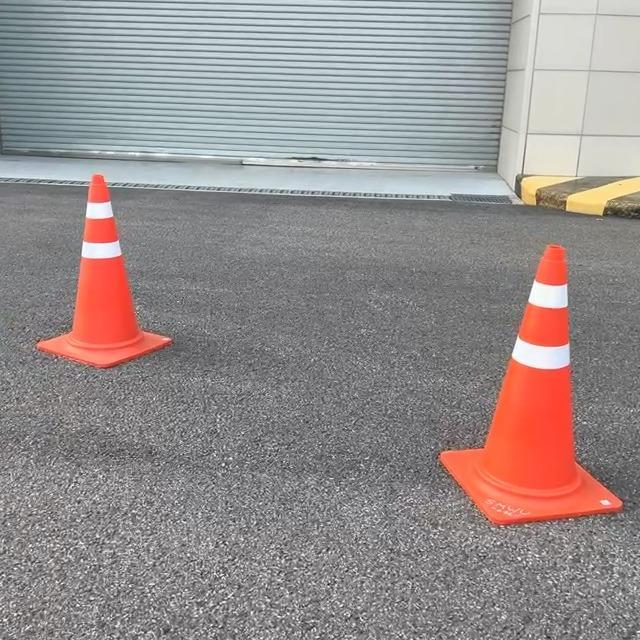fallen_object: (423, 199, 640, 553), (33, 165, 171, 370)
